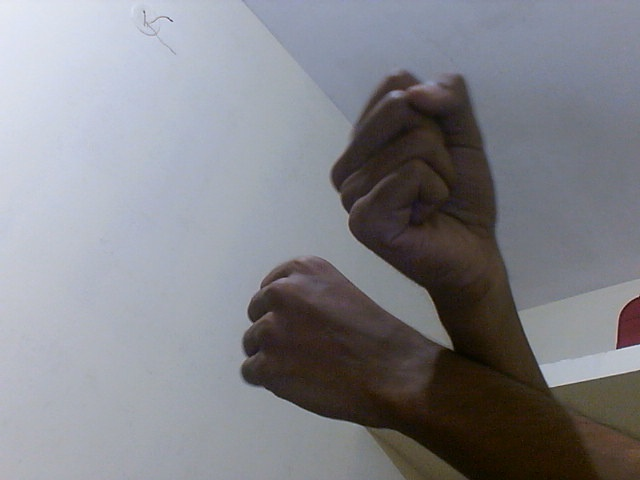hand: (325, 67, 514, 302), (236, 250, 448, 450)
